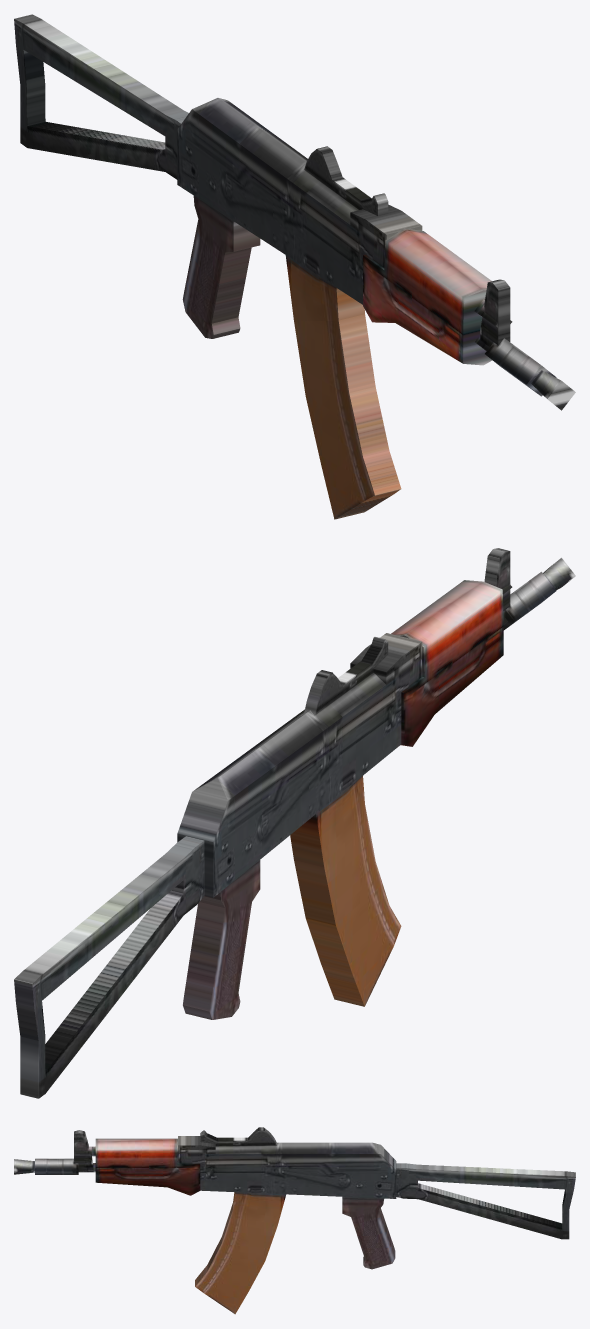
Rendered from AKS74u.FBX.
The picture shows the model from 3 angles, top to bottom: view 1: azimuth 30°, elevation 25°; view 2: azimuth 150°, elevation 25°; view 3: azimuth 270°, elevation 25°; orthographic projection. The views are drawn at different scales.
Visible parts, largest first — view 1: AKS74u; view 2: AKS74u; view 3: AKS74u.
Boxes of the visible parts, x1=… form: AKS74u: x1=14, y1=14, x2=575, y2=519; AKS74u: x1=14, y1=548, x2=575, y2=1098; AKS74u: x1=14, y1=1127, x2=575, y2=1314.
Size of the model in its own units: 1.19 by 9.77 by 27.36.
